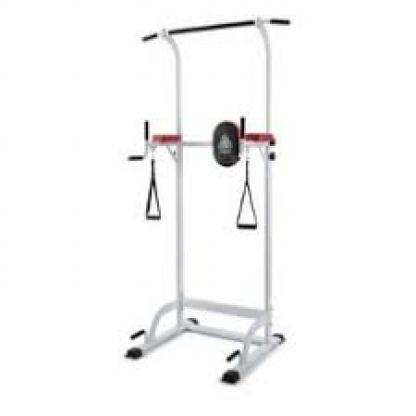chinning dipping: (124, 16, 292, 384)
